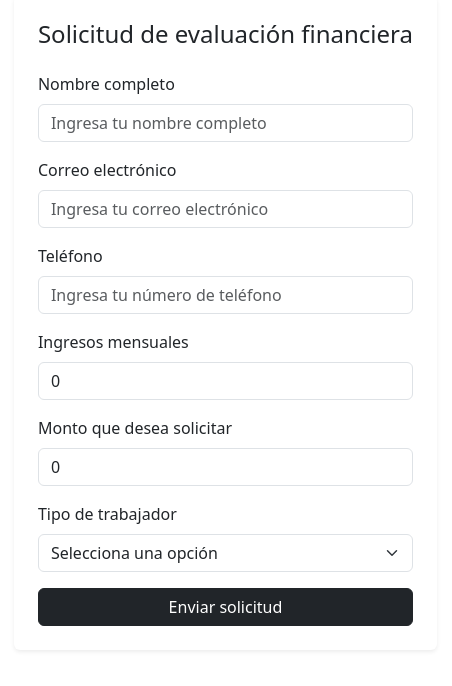
it: Campos obligatorios › no muestra previsualización si el correo está vacío
The image size is (452, 686).
Type "Juan Pérez" into the field with id "nombre" at (225, 123), box x1=38 y1=104 x2=413 y2=142
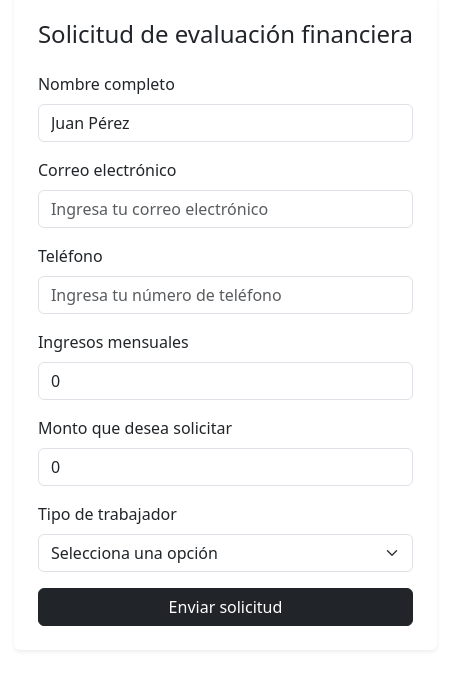
Type "912345678" into the field with id "telefono" at (225, 295), box x1=38 y1=276 x2=413 y2=314
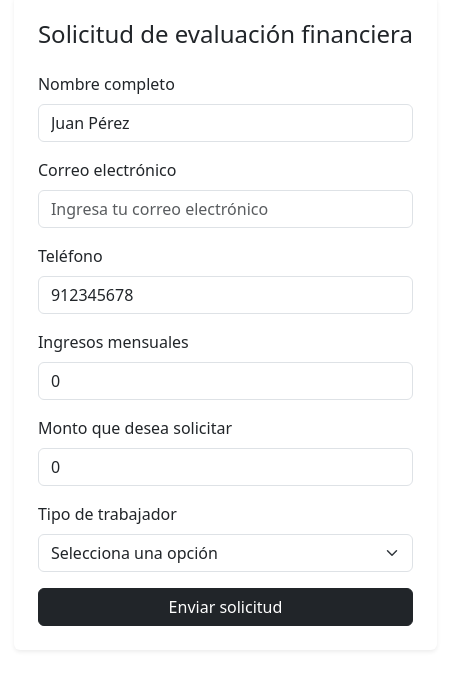
Replace the text in the number field with id "ingresos" with "1500000" at (225, 381), box x1=38 y1=362 x2=413 y2=400
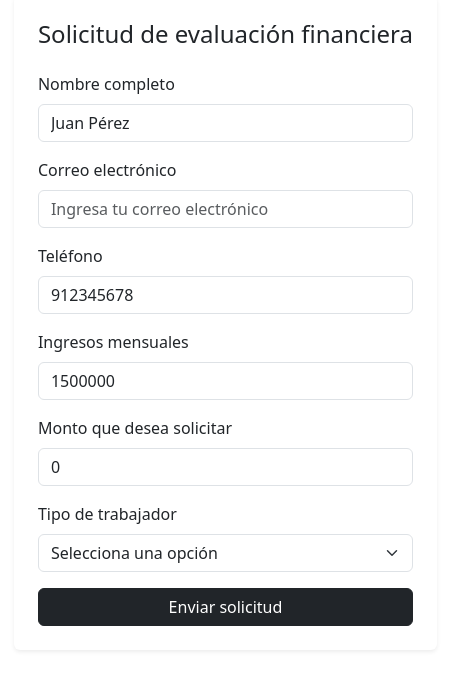
Replace the text in the number field with id "monto" with "500000" at (225, 467), box x1=38 y1=448 x2=413 y2=486
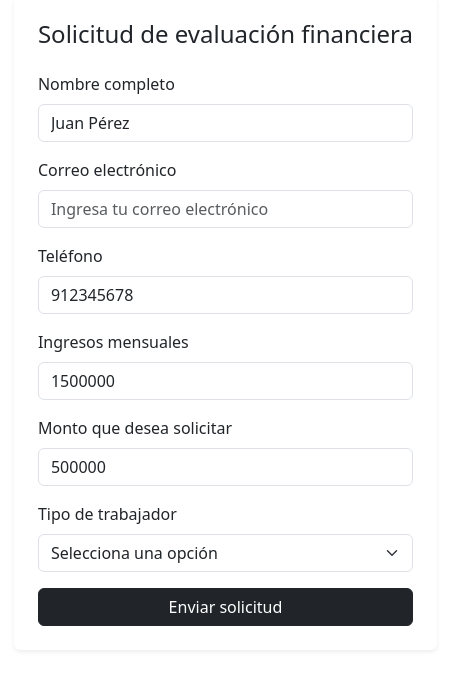
Select "Dependiente" in the dropdown with id "trabajador" at (225, 553), box x1=38 y1=534 x2=413 y2=572
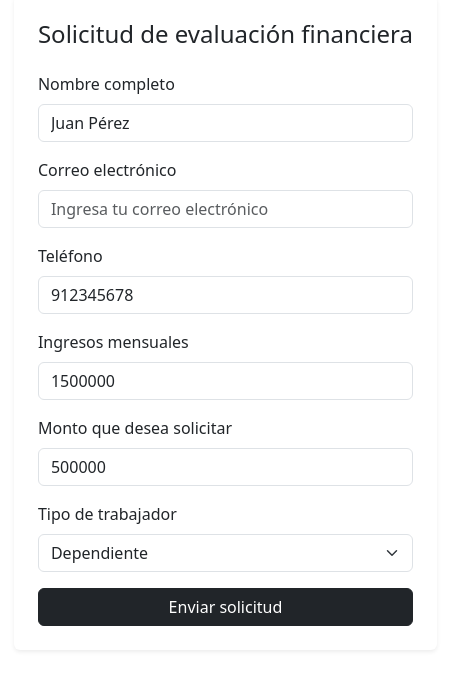
Click the button "Enviar solicitud" at (225, 607), box x1=38 y1=588 x2=413 y2=626
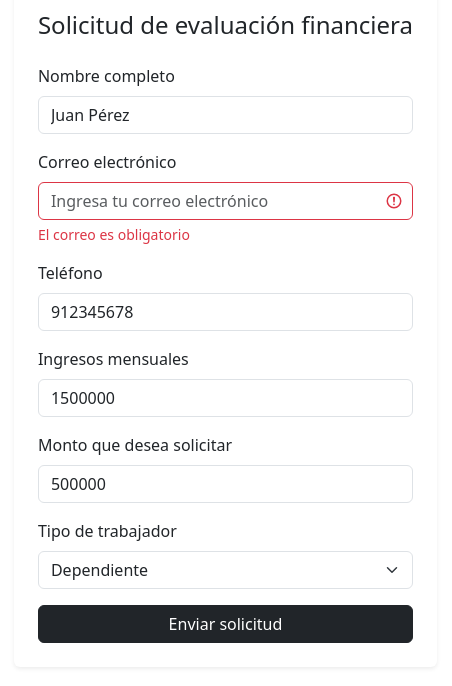
Result: the text "El correo es obligatorio" is shown at x1=38 y1=225 x2=190 y2=244
